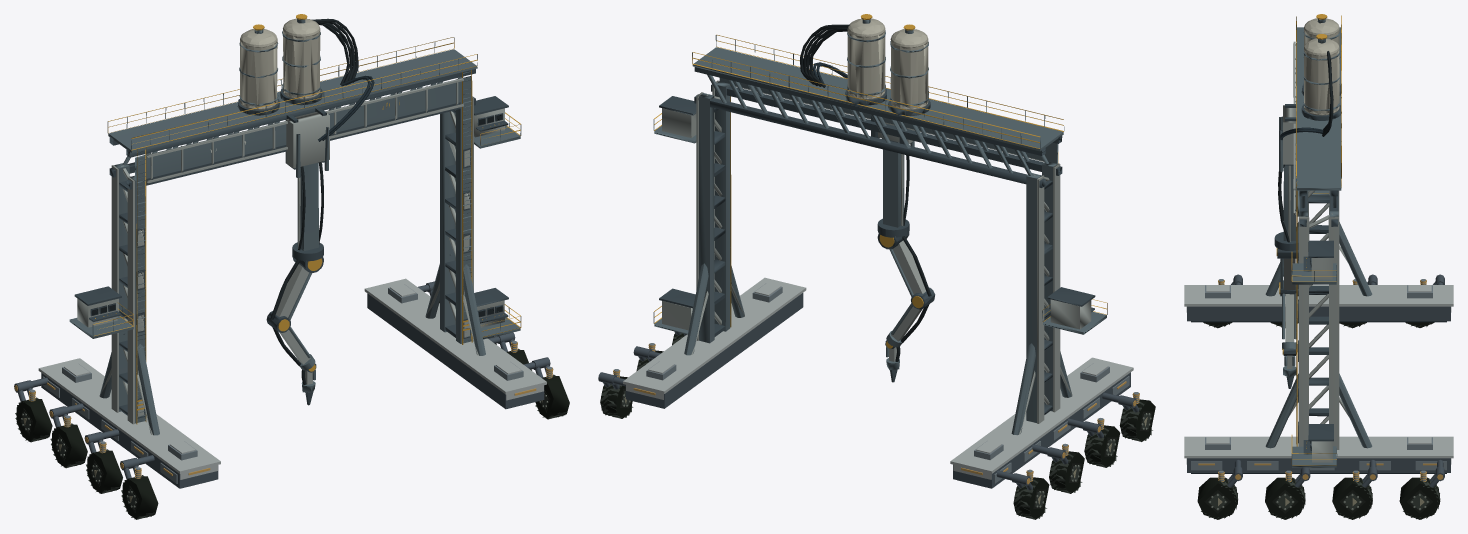
The model's file is stalheart_kidou_d0_lod1.glb.
3 renders of one model, left to right at view 1: azimuth 30°, elevation 25°; view 2: azimuth 150°, elevation 25°; view 3: azimuth 270°, elevation 25°, orthographic. The views are drawn at different scales.
Visible parts, largest first — view 1: GANTRY_SURFACE_GANTRY_TRAVEL_Y, MOBILE_CHASSIS_SURFACE, GANTRY_SURFACE_CARRIAGE_TRAVEL_X, GANTRY_SURFACE_TOOL_LIFT_Z, GANTRY_SURFACE_J2_SHOULDER, WHEEL_L4, WHEEL_L1, WHEEL_L2, WHEEL_L3, WHEEL_R1, GANTRY_SURFACE_J3_ELBOW, WHEEL_MOUNT_BRIDGES; view 2: GANTRY_SURFACE_GANTRY_TRAVEL_Y, MOBILE_CHASSIS_SURFACE, GANTRY_SURFACE_TOOL_LIFT_Z, GANTRY_SURFACE_J2_SHOULDER, WHEEL_L1, WHEEL_L2, WHEEL_L4, WHEEL_L3, GANTRY_SURFACE_J3_ELBOW, WHEEL_R4, WHEEL_MOUNT_BRIDGES; view 3: GANTRY_SURFACE_GANTRY_TRAVEL_Y, MOBILE_CHASSIS_SURFACE, WHEEL_R2, WHEEL_R3, WHEEL_R1, WHEEL_R4, GANTRY_SURFACE_TOOL_LIFT_Z, GANTRY_SURFACE_CARRIAGE_TRAVEL_X, GANTRY_SURFACE_J3_ELBOW, GANTRY_SURFACE_J2_SHOULDER, GANTRY_SURFACE_J1_BASE_YAW.
Boxes of the visible parts, x1=… form: GANTRY_SURFACE_GANTRY_TRAVEL_Y: x1=69, y1=14, x2=521, y2=435; MOBILE_CHASSIS_SURFACE: x1=38, y1=278, x2=546, y2=488; GANTRY_SURFACE_CARRIAGE_TRAVEL_X: x1=285, y1=107, x2=329, y2=177; GANTRY_SURFACE_TOOL_LIFT_Z: x1=297, y1=162, x2=323, y2=250; GANTRY_SURFACE_J2_SHOULDER: x1=270, y1=255, x2=323, y2=321; WHEEL_L4: x1=15, y1=397, x2=52, y2=442; WHEEL_L1: x1=121, y1=475, x2=158, y2=519; WHEEL_L2: x1=86, y1=449, x2=122, y2=493; WHEEL_L3: x1=50, y1=423, x2=87, y2=468; WHEEL_R1: x1=535, y1=374, x2=569, y2=419; GANTRY_SURFACE_J3_ELBOW: x1=266, y1=311, x2=310, y2=366; WHEEL_MOUNT_BRIDGES: x1=31, y1=284, x2=535, y2=464; GANTRY_SURFACE_GANTRY_TRAVEL_Y: x1=653, y1=14, x2=1107, y2=435; MOBILE_CHASSIS_SURFACE: x1=623, y1=277, x2=1133, y2=488; GANTRY_SURFACE_TOOL_LIFT_Z: x1=883, y1=138, x2=909, y2=227; GANTRY_SURFACE_J2_SHOULDER: x1=877, y1=232, x2=931, y2=297; WHEEL_L1: x1=1119, y1=399, x2=1155, y2=441; WHEEL_L2: x1=1084, y1=425, x2=1120, y2=467; WHEEL_L4: x1=1013, y1=477, x2=1049, y2=519; WHEEL_L3: x1=1049, y1=451, x2=1084, y2=493; GANTRY_SURFACE_J3_ELBOW: x1=891, y1=287, x2=935, y2=343; WHEEL_R4: x1=600, y1=376, x2=633, y2=418; WHEEL_MOUNT_BRIDGES: x1=613, y1=351, x2=1119, y2=480; GANTRY_SURFACE_GANTRY_TRAVEL_Y: x1=1265, y1=14, x2=1372, y2=467; MOBILE_CHASSIS_SURFACE: x1=1184, y1=285, x2=1453, y2=473; WHEEL_R2: x1=1265, y1=477, x2=1305, y2=519; WHEEL_R3: x1=1332, y1=477, x2=1372, y2=519; WHEEL_R1: x1=1197, y1=477, x2=1238, y2=519; WHEEL_R4: x1=1399, y1=477, x2=1440, y2=519; GANTRY_SURFACE_TOOL_LIFT_Z: x1=1278, y1=164, x2=1295, y2=242; GANTRY_SURFACE_CARRIAGE_TRAVEL_X: x1=1279, y1=104, x2=1296, y2=171; GANTRY_SURFACE_J3_ELBOW: x1=1279, y1=280, x2=1298, y2=341; GANTRY_SURFACE_J2_SHOULDER: x1=1276, y1=247, x2=1298, y2=289; GANTRY_SURFACE_J1_BASE_YAW: x1=1274, y1=232, x2=1298, y2=250.
Size of the model in its own units: 42.13 by 38.26 by 24.
